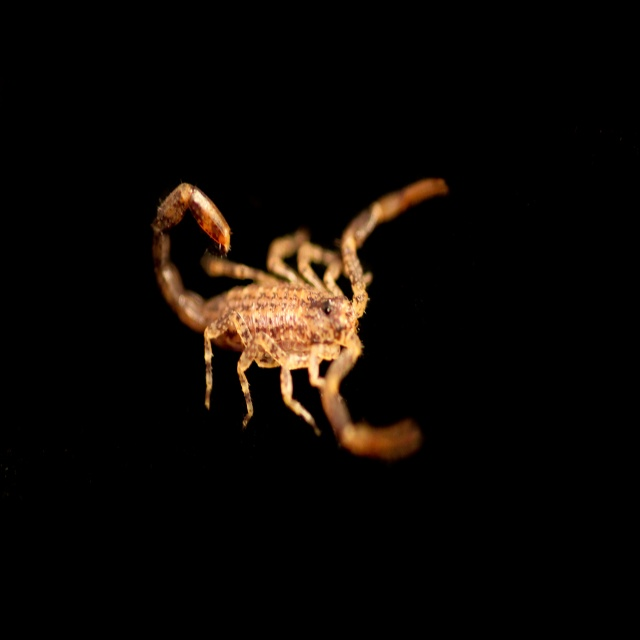Scorpion: (149, 176, 448, 458)
